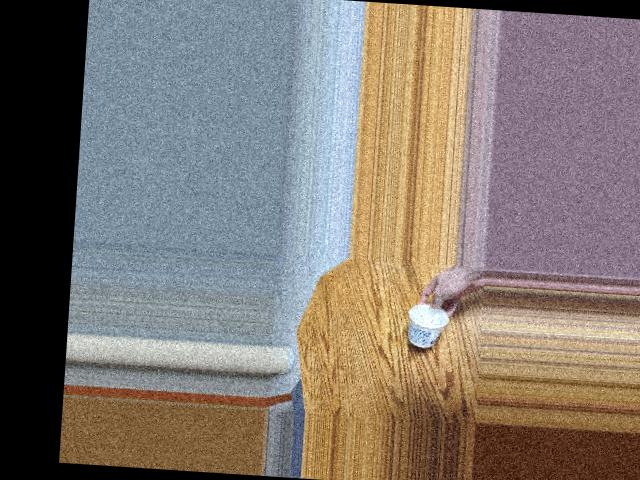cotage: (401, 304, 447, 350)
